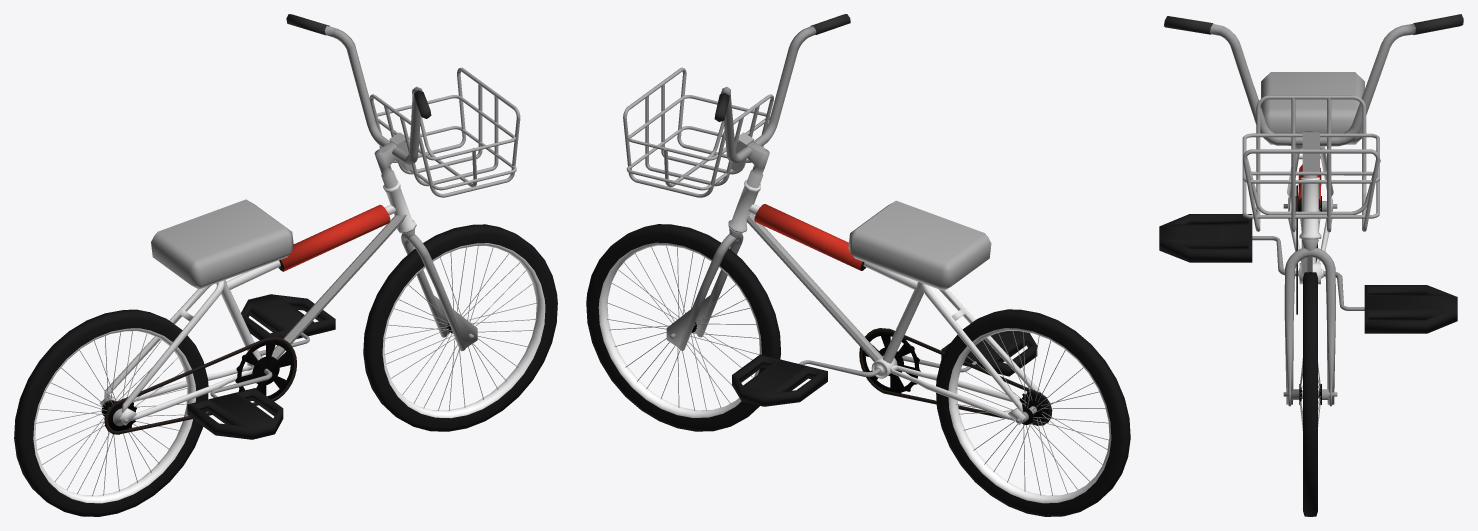
The model's file is Bike.fbx.
The picture shows the model from 3 angles, left to right: view 1: azimuth 30°, elevation 25°; view 2: azimuth 150°, elevation 25°; view 3: azimuth 270°, elevation 25°; orthographic projection. The views are drawn at different scales.
Parts seen in each view (by area): view 1: polySurface840, polySurface860, pCube110, polySurface854, Bycecle_Mesh37Group28Group1Model, polySurface842, polySurface848, polySurface861, polySurface851, polySurface853, pCylinder18, polySurface846 (+6 smaller); view 2: polySurface860, polySurface840, pCube110, polySurface854, Bycecle_Mesh37Group28Group1Model, polySurface861, polySurface848, polySurface851, polySurface853, pCylinder18, polySurface842, polySurface852 (+7 smaller); view 3: pCube110, polySurface848, polySurface861, polySurface842, Bycecle_Mesh37Group28Group1Model, polySurface840, polySurface851, Bycecle_Mesh38Group28Group1Model1, Bycecle_Mesh38Group28Group1Model, polySurface858, polySurface854, Bycecle_Mesh35Group29Group28Group1Model (+1 smaller).
Boxes of the visible parts, x1,y1,x2,y2 form: polySurface840: (363, 224, 557, 431); polySurface860: (14, 309, 208, 516); pCube110: (151, 199, 293, 289); polySurface854: (99, 280, 253, 425); Bycecle_Mesh37Group28Group1Model: (369, 67, 520, 197); polySurface842: (187, 388, 283, 439); polySurface848: (286, 14, 431, 164); polySurface861: (241, 294, 335, 340); polySurface851: (401, 234, 477, 351); polySurface853: (278, 205, 390, 271); pCylinder18: (271, 214, 406, 359); polySurface846: (235, 340, 293, 399); polySurface860: (936, 309, 1130, 516); polySurface840: (586, 224, 780, 431); pCube110: (848, 200, 991, 290); polySurface854: (890, 283, 1040, 425); Bycecle_Mesh37Group28Group1Model: (623, 67, 773, 197); polySurface861: (732, 354, 827, 406); polySurface848: (714, 14, 850, 164); polySurface851: (666, 233, 743, 350); polySurface853: (754, 204, 865, 270); pCylinder18: (746, 213, 882, 361); polySurface842: (941, 331, 1037, 376); polySurface852: (859, 328, 1051, 425); pCube110: (1261, 72, 1364, 144); polySurface848: (1164, 14, 1463, 146); polySurface861: (1364, 285, 1457, 333); polySurface842: (1159, 214, 1252, 262); Bycecle_Mesh37Group28Group1Model: (1242, 95, 1379, 232); polySurface840: (1303, 272, 1317, 516); polySurface851: (1284, 248, 1335, 406); Bycecle_Mesh38Group28Group1Model1: (1242, 171, 1379, 218); Bycecle_Mesh38Group28Group1Model: (1242, 133, 1379, 183); polySurface858: (1299, 177, 1321, 239); polySurface854: (1287, 146, 1333, 262); Bycecle_Mesh35Group29Group28Group1Model: (1246, 157, 1380, 214).
Size of the model in its own units: 2.95 by 2.04 by 1.29.
